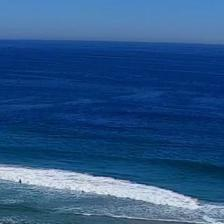surfer: (182, 176, 186, 179), (20, 179, 22, 183)
